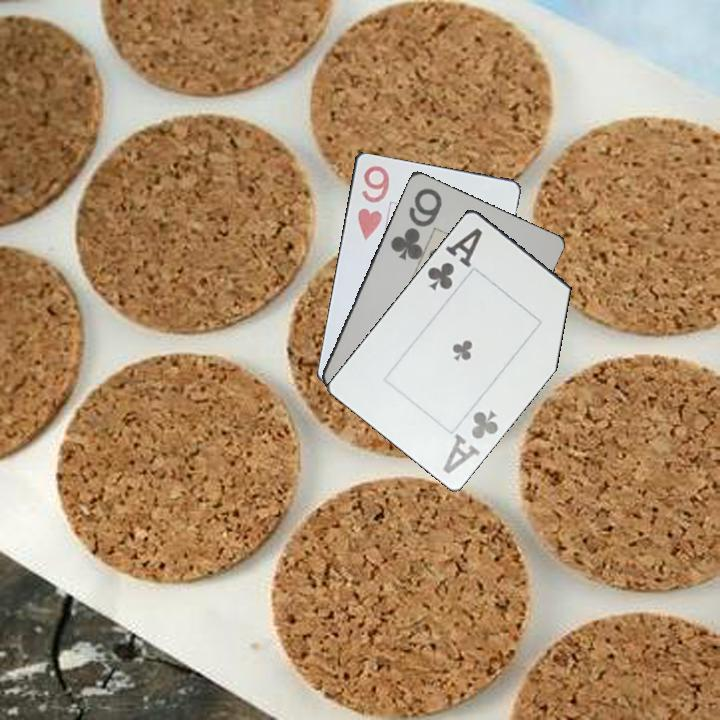9c: (387, 184, 445, 263)
9h: (354, 162, 392, 244)
Ac: (422, 224, 485, 293), (439, 406, 501, 476)
